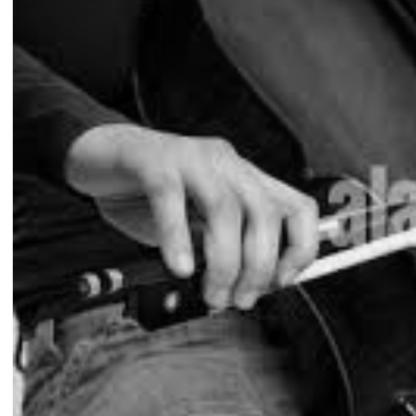good: (105, 117, 333, 322)
